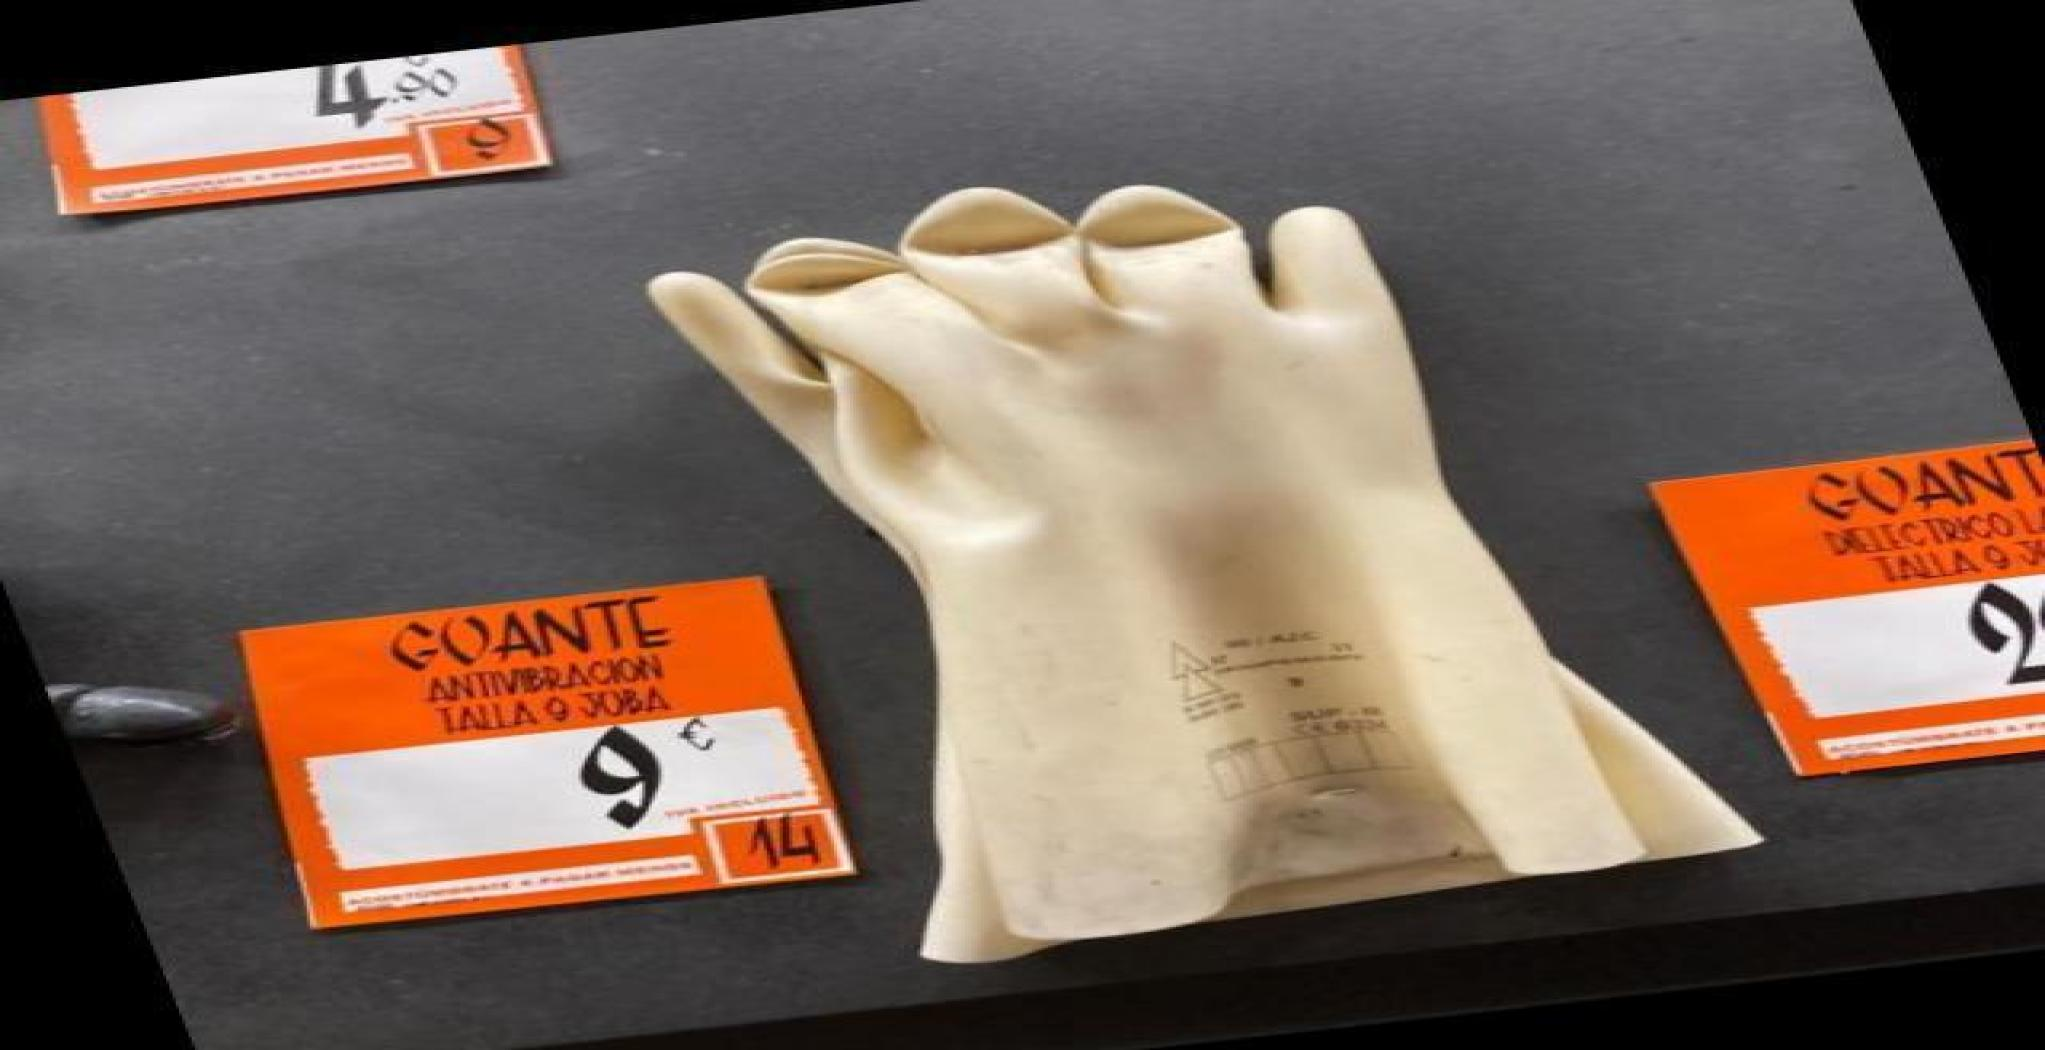gloved: (639, 179, 1764, 966)
